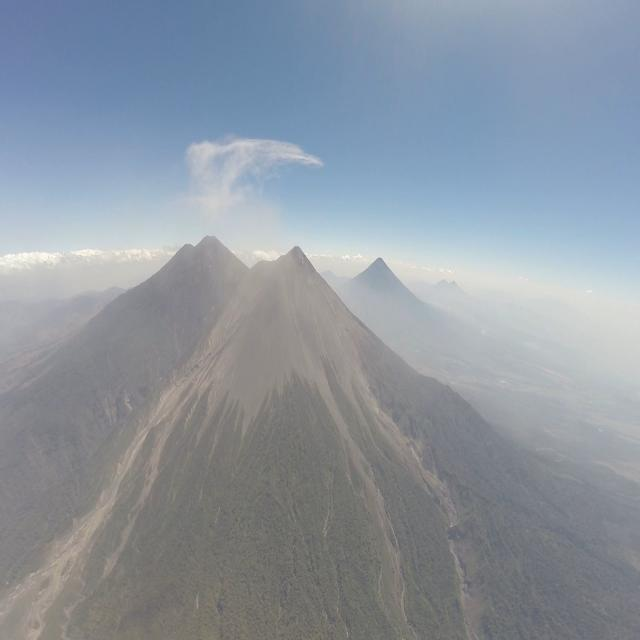Summit: (273, 242, 316, 268)
